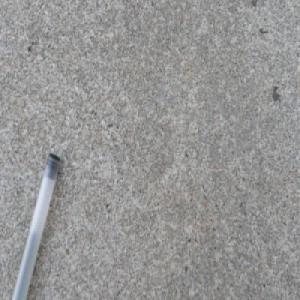Pen: (7, 150, 62, 300)
